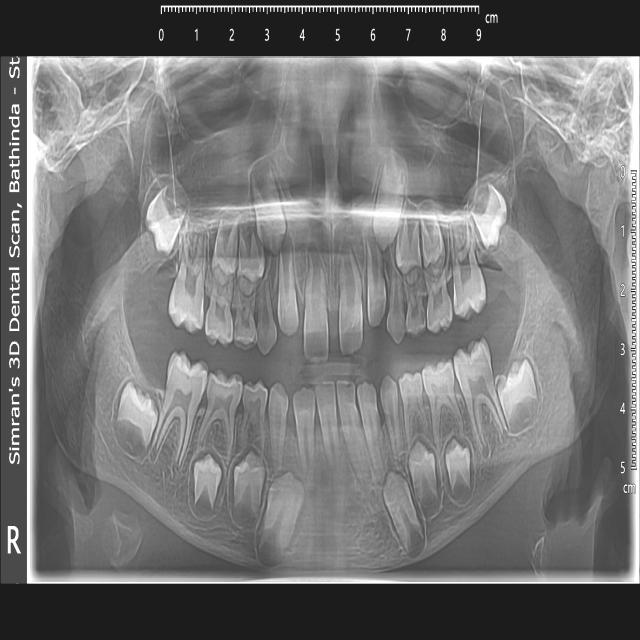Caries: (407, 308, 428, 334)
